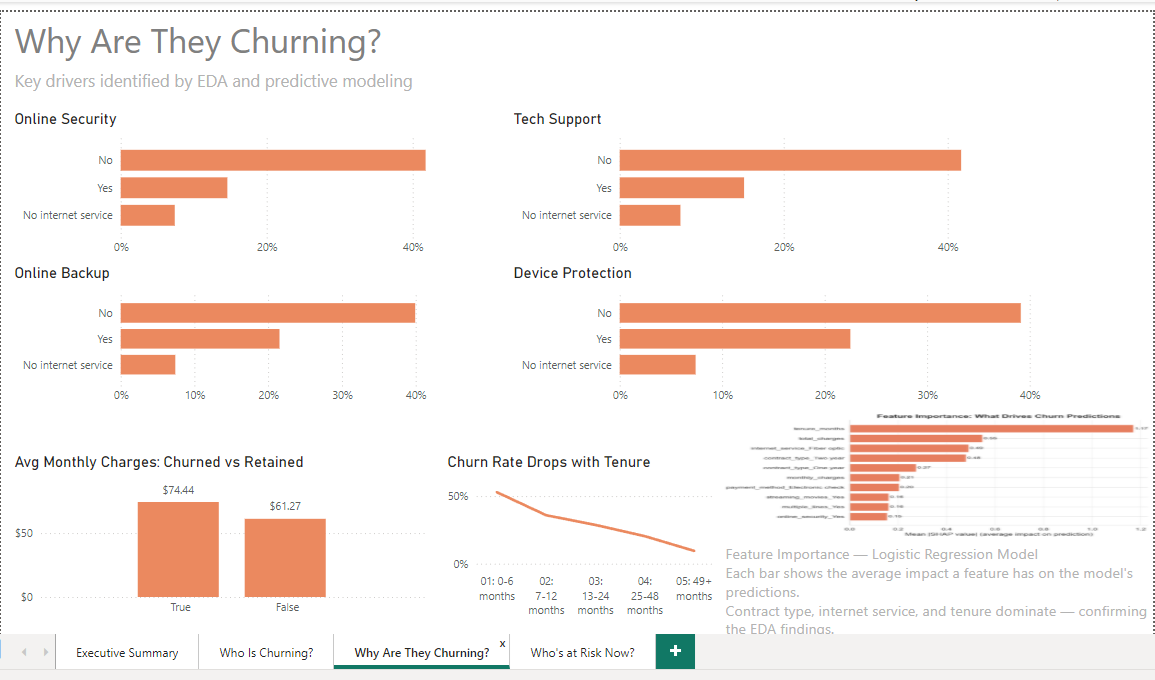

The dashboard page shown, as its layout file describes it:
{"tool":"powerbi","page":{"name":"Why Are They Churning?","canvas":[1280,720],"ordinal":2},"visuals":[{"type":"textbox","box":[10,0,690,66.7],"z":0},{"type":"textbox","box":[10,57.8,467.8,51.1],"z":1},{"type":"clusteredBarChart","title":"Online Security","fields":{"Category":["customer_360.online_security"],"Y":["customer_360.Churn Rate"]},"box":[10,108.9,545.6,171.1],"z":2},{"type":"clusteredBarChart","title":"Tech Support","fields":{"Category":["customer_360.tech_support"],"Y":["customer_360.Churn Rate"]},"box":[564.4,108.9,595.6,171.1],"z":3},{"type":"clusteredBarChart","title":"Online Backup","fields":{"Category":["customer_360.online_backup"],"Y":["customer_360.Churn Rate"]},"box":[10,280,467.8,164.4],"z":4},{"type":"clusteredBarChart","title":"Device Protection","fields":{"Category":["customer_360.device_protection"],"Y":["customer_360.Churn Rate"]},"box":[564.4,280,595.6,164.4],"z":5},{"type":"clusteredColumnChart","title":"Avg Monthly Charges: Churned vs Retained","fields":{"Category":["customer_360.churned"],"Y":["customer_360.Avg Monthly Charges"]},"box":[10,490,467.8,190],"z":6},{"type":"lineChart","title":"Churn Rate Drops with Tenure","fields":{"Category":["customer_360.tenure_bucket"],"Y":["customer_360.Churn Rate"]},"box":[491.1,490,308.9,190],"z":7},{"type":"image","box":[800,444.4,435.6,165.6],"z":8},{"type":"textbox","box":[800,602.2,435.6,117.8],"z":9}]}

Visuals, with their boxes on the page's 1280x720 design canvas (x1, y1, x2, y2). These are canvas units, not pixel positions in the 1155x680 screenshot, which may show the page scaled, cropped or inside an application window:
textbox: (left=10, top=0, right=700, bottom=67)
textbox: (left=10, top=58, right=478, bottom=109)
"Online Security" clusteredBarChart: (left=10, top=109, right=556, bottom=280)
"Tech Support" clusteredBarChart: (left=564, top=109, right=1160, bottom=280)
"Online Backup" clusteredBarChart: (left=10, top=280, right=478, bottom=444)
"Device Protection" clusteredBarChart: (left=564, top=280, right=1160, bottom=444)
"Avg Monthly Charges: Churned vs Retained" clusteredColumnChart: (left=10, top=490, right=478, bottom=680)
"Churn Rate Drops with Tenure" lineChart: (left=491, top=490, right=800, bottom=680)
image: (left=800, top=444, right=1236, bottom=610)
textbox: (left=800, top=602, right=1236, bottom=720)
